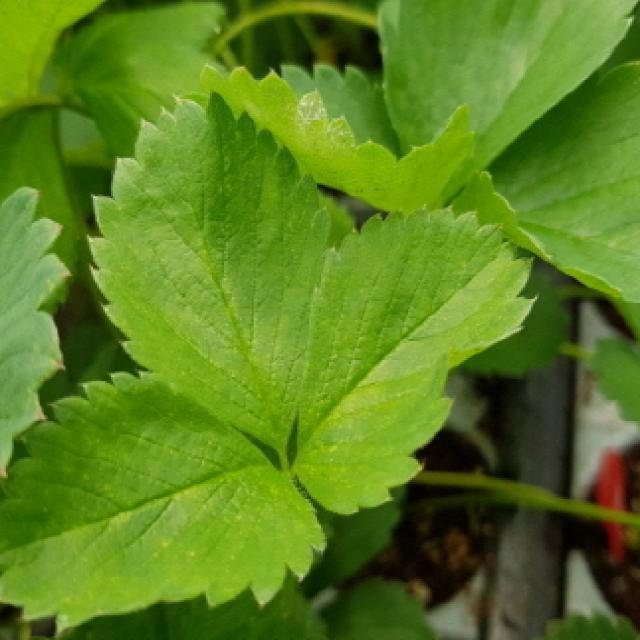Powdery Mildew Leaf: (178, 62, 475, 213)
